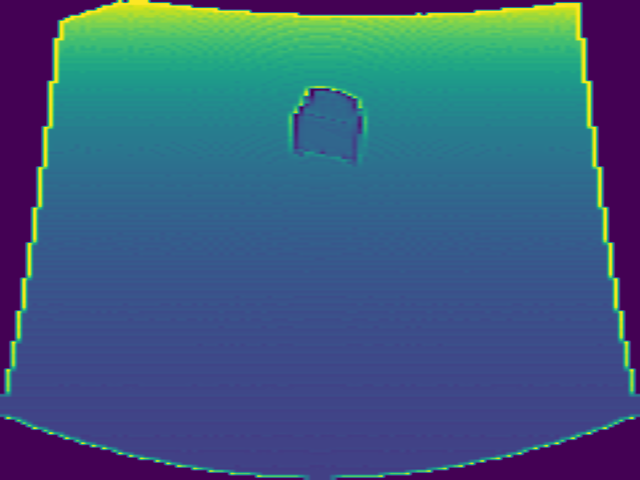car_0027: (285, 83, 370, 169)
